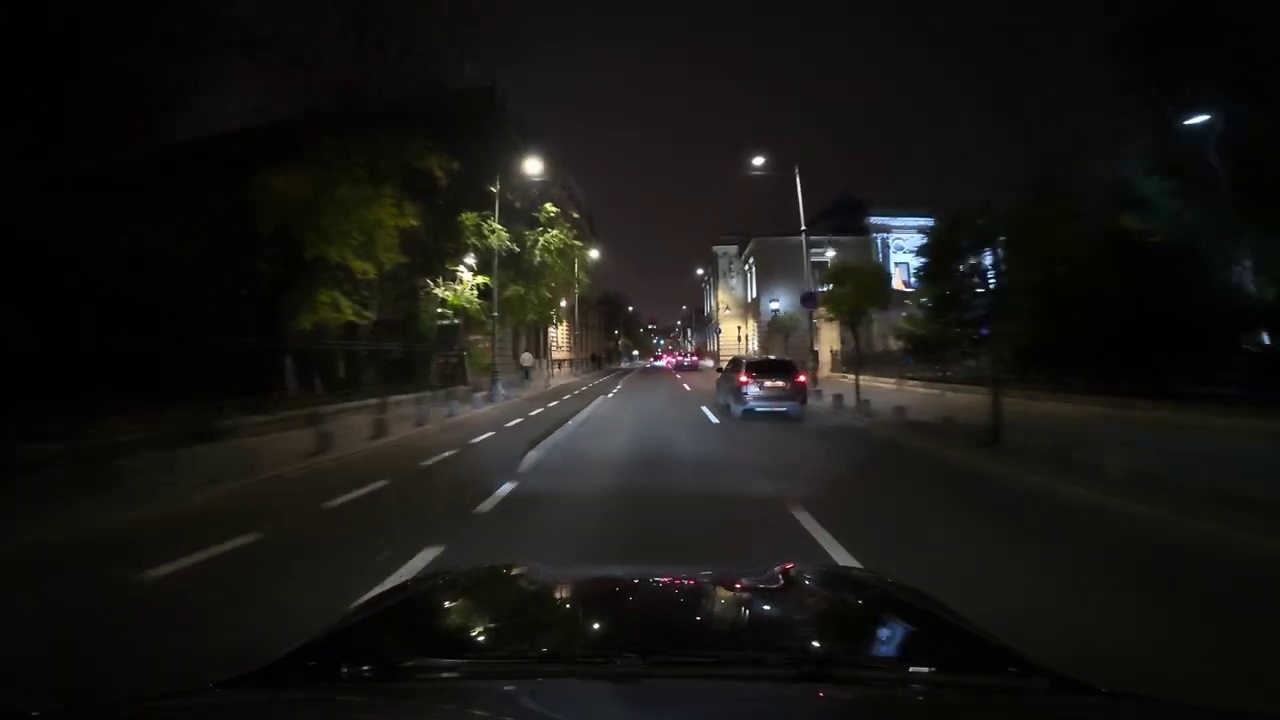acesa: (517, 154, 547, 180), (747, 152, 769, 174), (585, 246, 604, 267)
